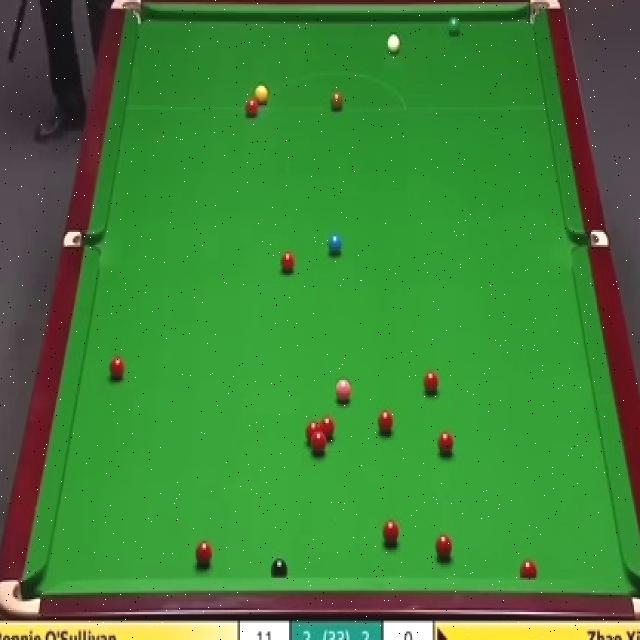black-ball: (270, 558, 290, 580)
blue-ball: (328, 232, 343, 258)
brown-ball: (330, 88, 343, 110)
green-ball: (447, 17, 461, 37)
pink-ball: (335, 379, 352, 406)
red-ball: (434, 535, 454, 563), (374, 406, 393, 434), (194, 539, 212, 568), (381, 521, 400, 547), (423, 368, 440, 396), (437, 430, 454, 454), (108, 354, 124, 379), (320, 416, 335, 442), (306, 421, 320, 447), (281, 249, 294, 277), (519, 558, 538, 577), (312, 434, 328, 456), (243, 96, 260, 116)
white-ball: (385, 33, 401, 56)
yellow-ball: (254, 86, 267, 104)
